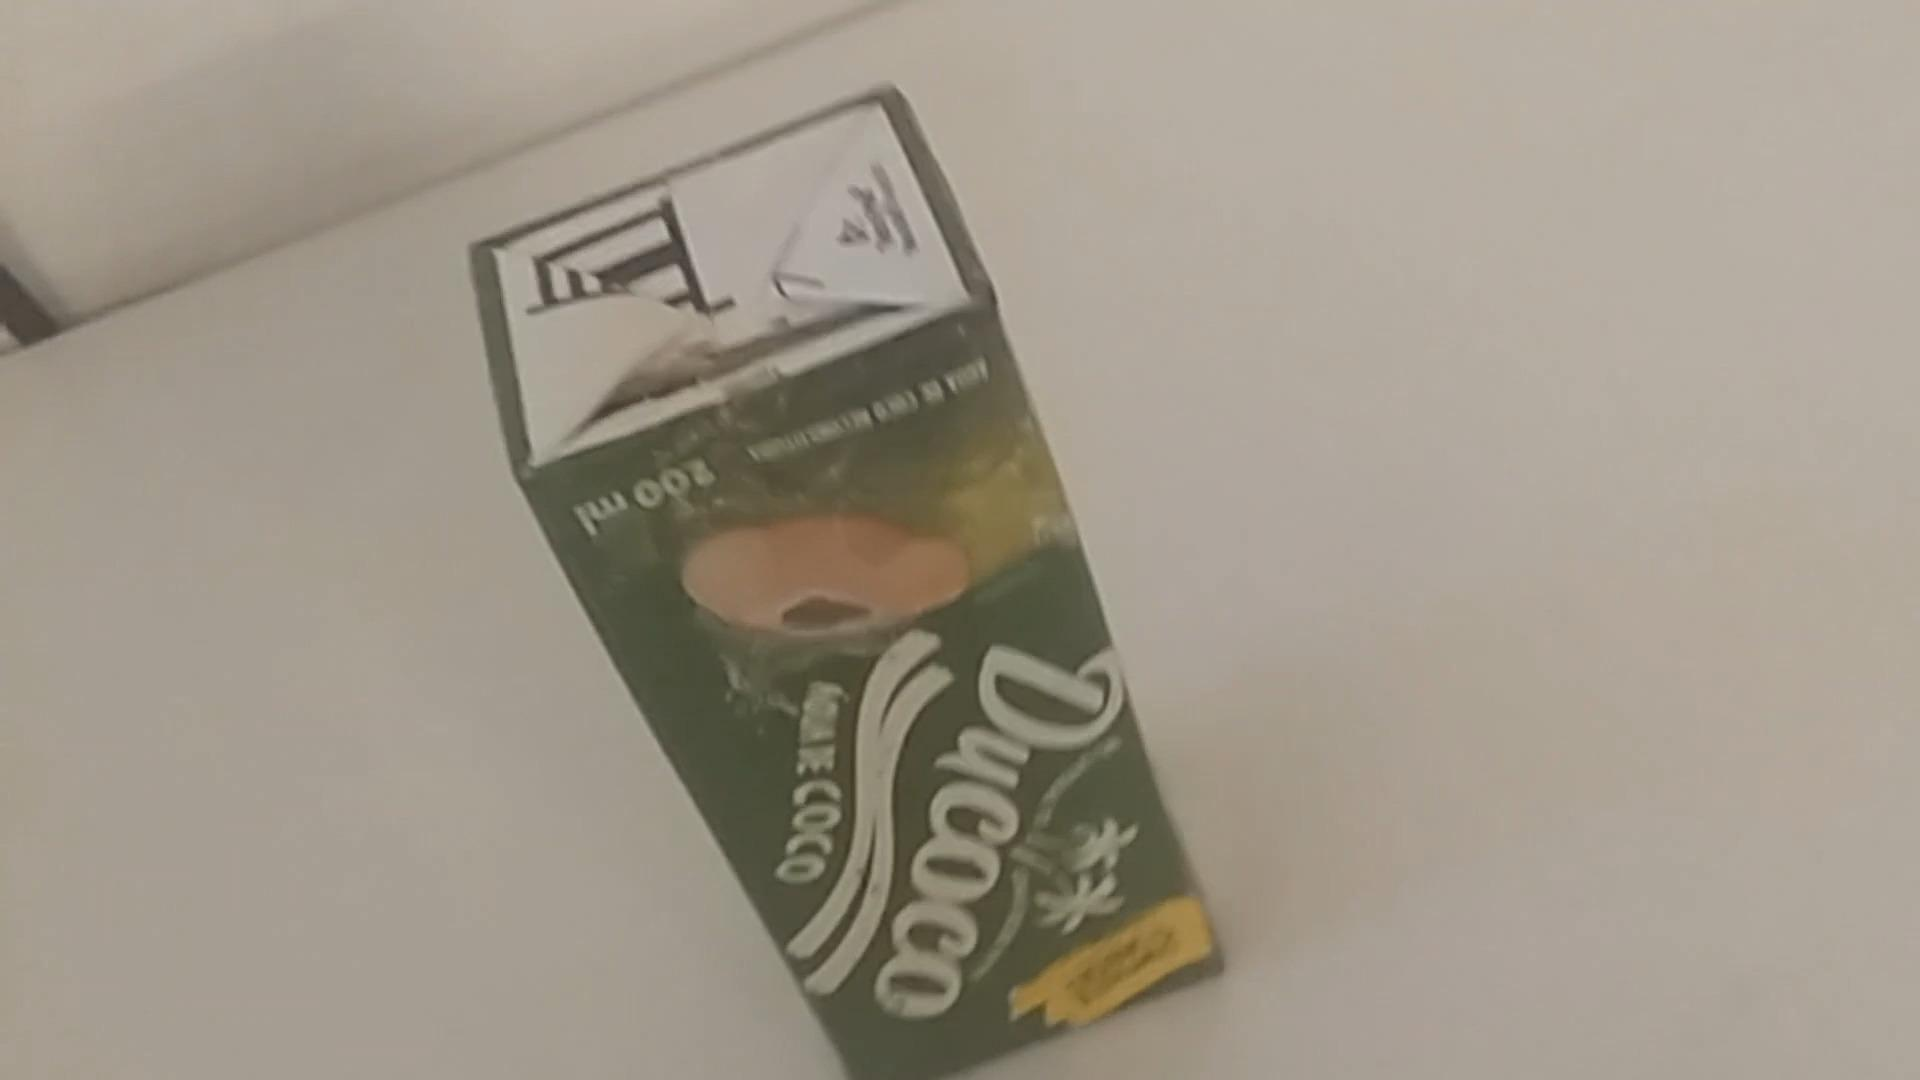coco: (467, 90, 1217, 1076)
